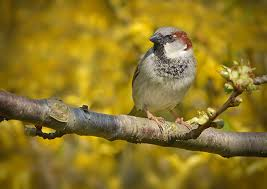hsparrow: (129, 24, 199, 151)
